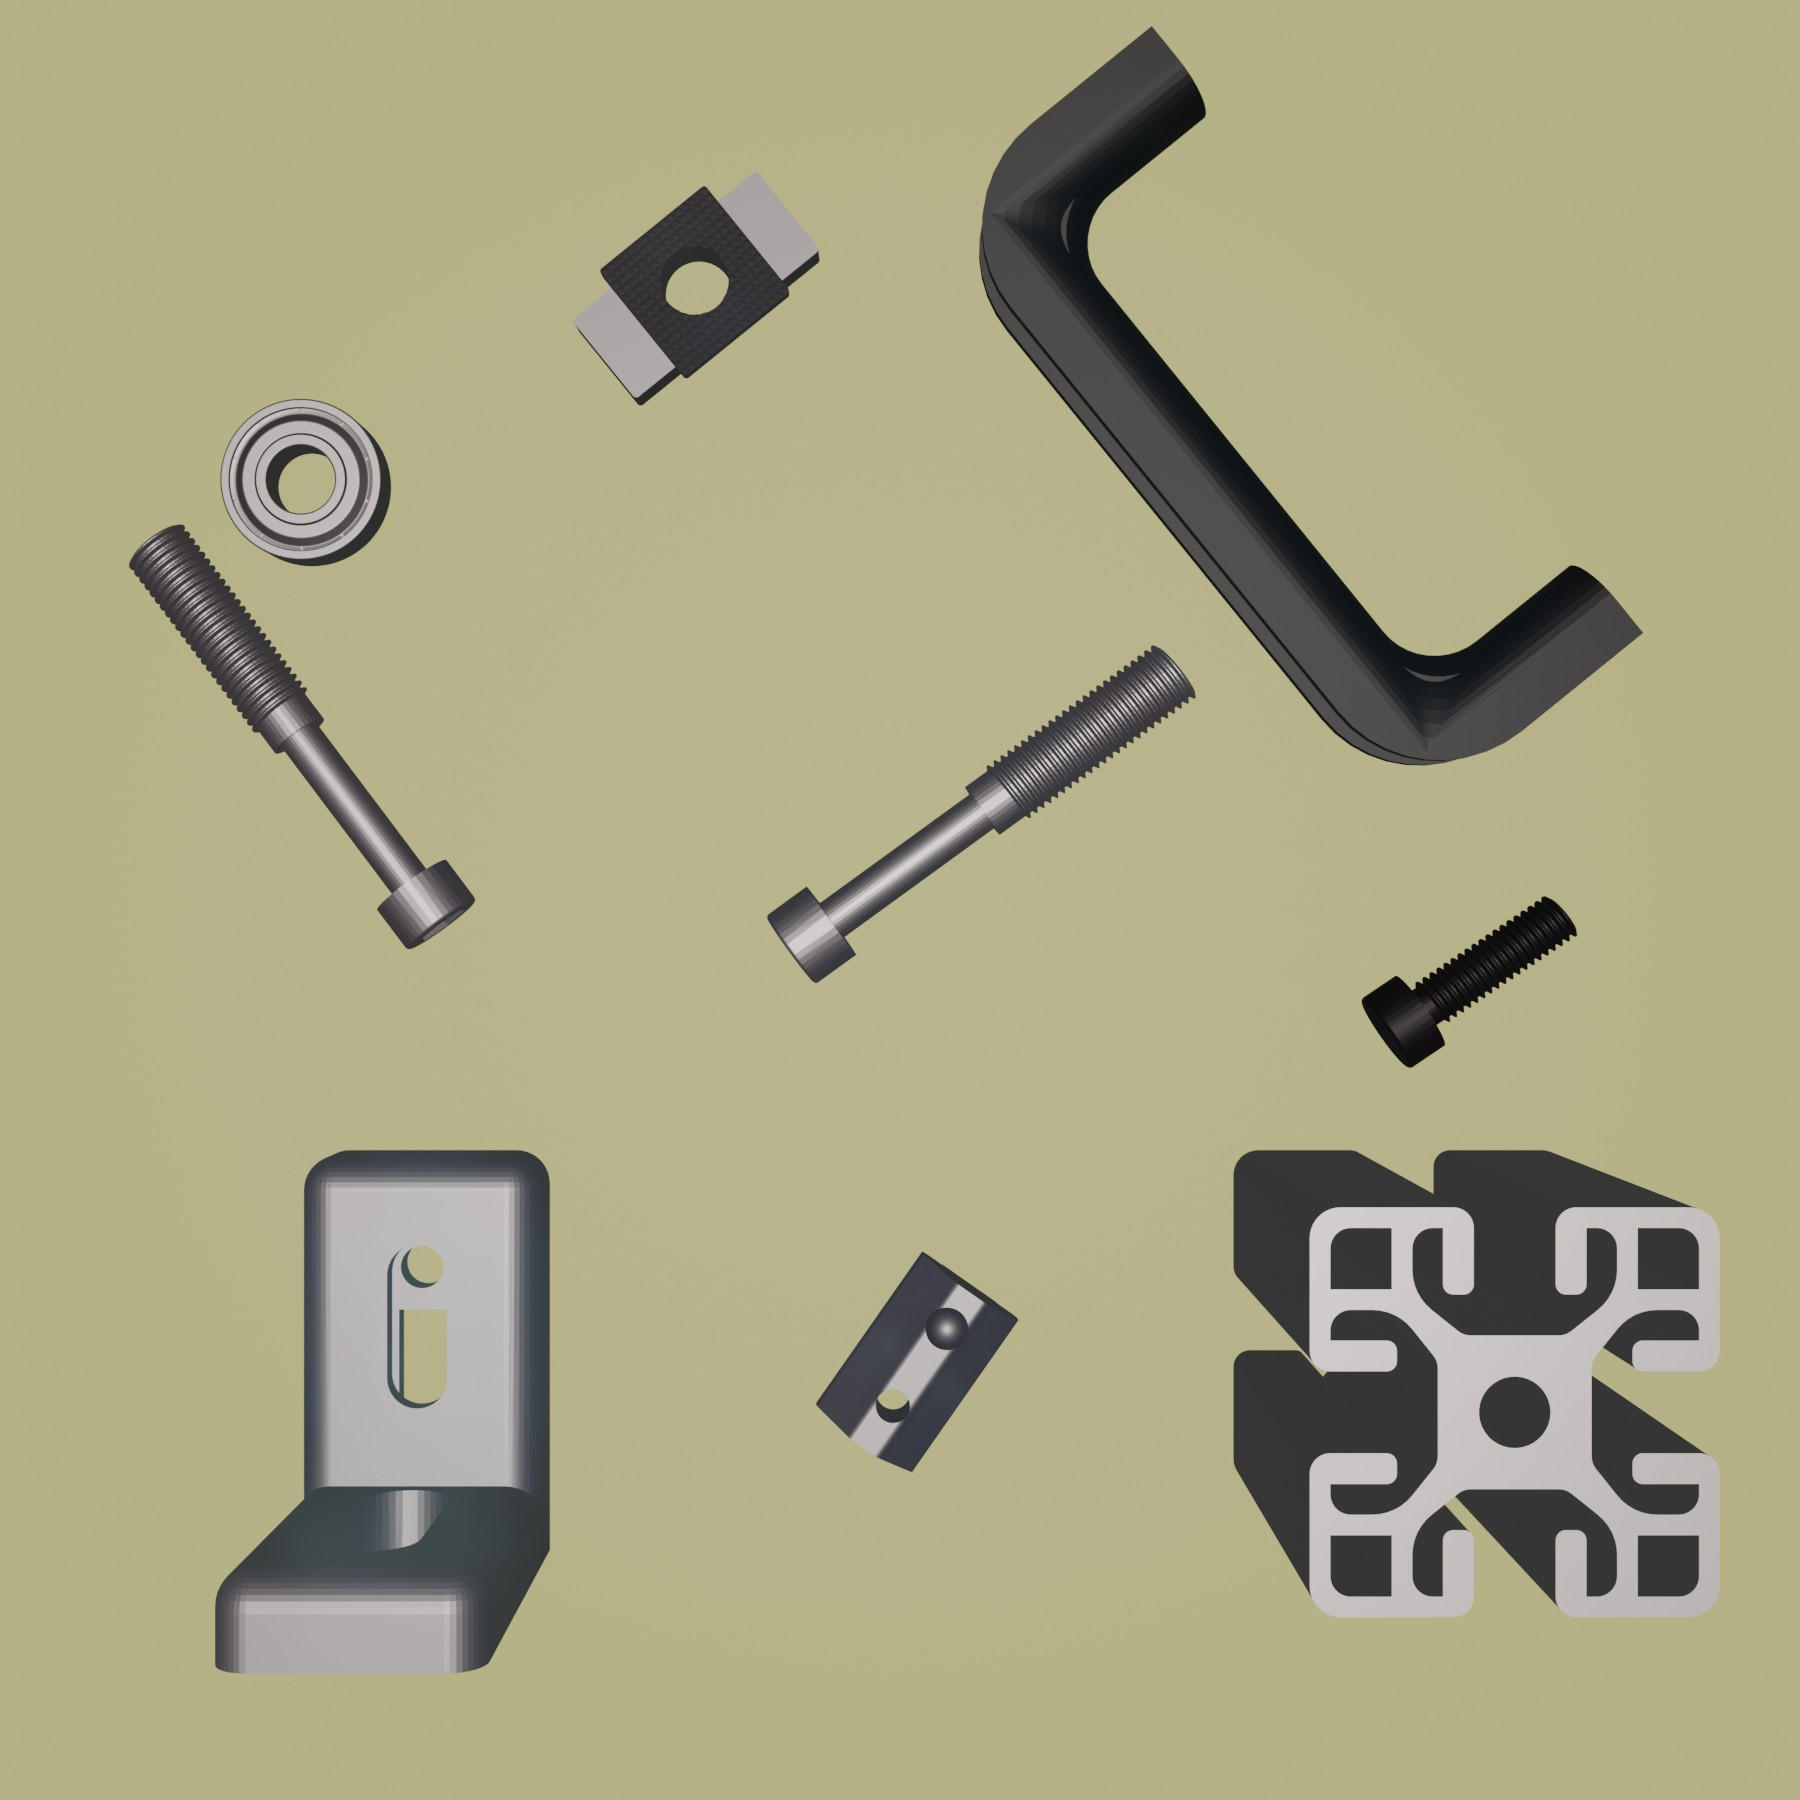Aluminium Extension: (1230, 1142, 1727, 1624)
Ball Bearing: (218, 397, 394, 569)
Multiwinkel: (213, 1147, 555, 1681)
Pull Handle: (976, 21, 1643, 770)
Shoulder Socket Head Cap Screw: (127, 523, 478, 954), (762, 643, 1197, 987)
Socket Head Cap Screw: (1362, 895, 1582, 1070)
T Nut Square: (569, 168, 824, 409)
T Spring Nut: (814, 1249, 1020, 1475)
